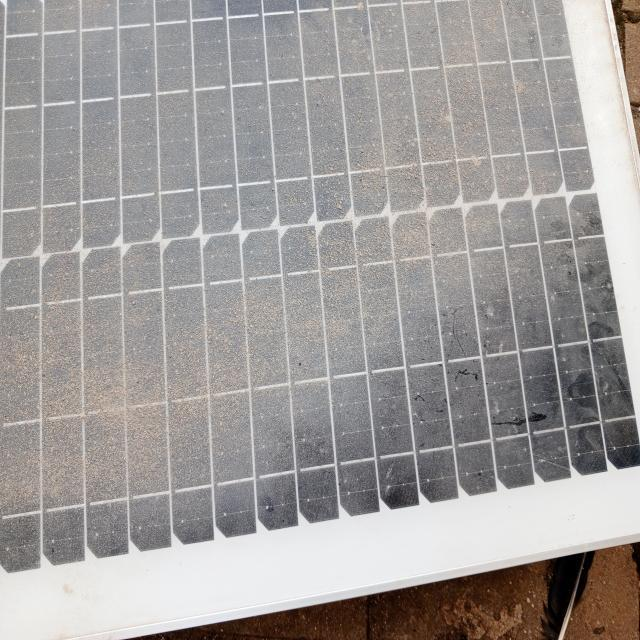Surface Contaminant: (3, 21, 595, 508)
